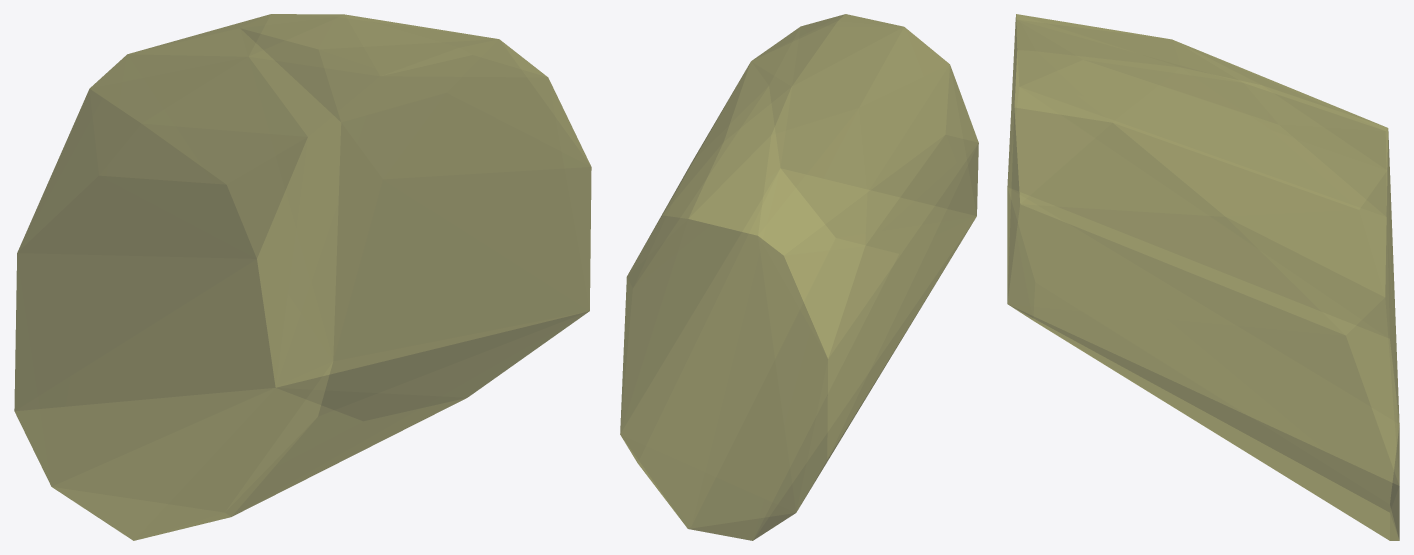
3 renders of one model, left to right at view 1: azimuth 30°, elevation 25°; view 2: azimuth 150°, elevation 25°; view 3: azimuth 270°, elevation 25°, orthographic. The views are drawn at different scales.
Visible parts, largest first — view 1: Shape_IndexedFaceSet.006_Shape_IndexedFaceSet.10753; view 2: Shape_IndexedFaceSet.006_Shape_IndexedFaceSet.10753; view 3: Shape_IndexedFaceSet.006_Shape_IndexedFaceSet.10753.
Boxes of the visible parts, x1,y1,x2,y2 form: Shape_IndexedFaceSet.006_Shape_IndexedFaceSet.10753: [14, 14, 591, 540]; Shape_IndexedFaceSet.006_Shape_IndexedFaceSet.10753: [620, 14, 978, 540]; Shape_IndexedFaceSet.006_Shape_IndexedFaceSet.10753: [1007, 14, 1399, 540].
Size of the model in its own units: 0.1219 by 0.2205 by 0.1595.
